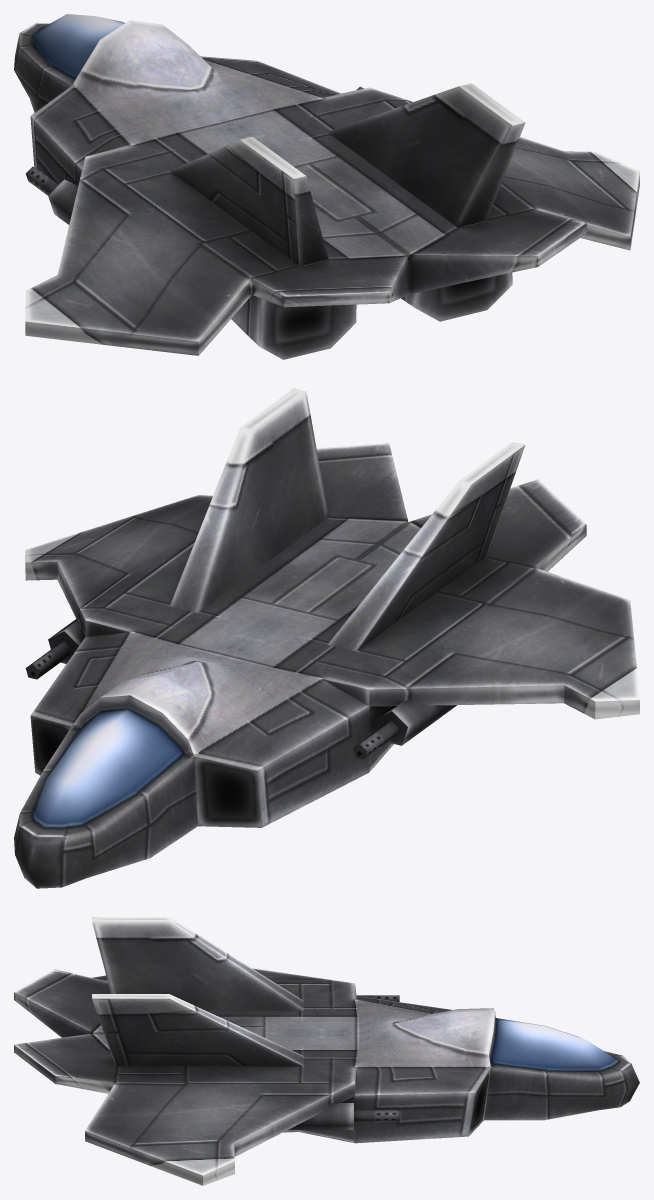
File: Hunter.FBX
3 renders of one model, top to bottom at view 1: azimuth 30°, elevation 25°; view 2: azimuth 150°, elevation 25°; view 3: azimuth 270°, elevation 25°, orthographic. The views are drawn at different scales.
Parts seen in each view (by area): view 1: SF_HNT; view 2: SF_HNT; view 3: SF_HNT.
Part boxes in pixels (x1=…): SF_HNT: x1=14, y1=14, x2=639, y2=359; SF_HNT: x1=14, y1=388, x2=639, y2=888; SF_HNT: x1=14, y1=917, x2=639, y2=1185.
Bounding box in the file's own units: 13.05 × 15.95 × 4.39.
